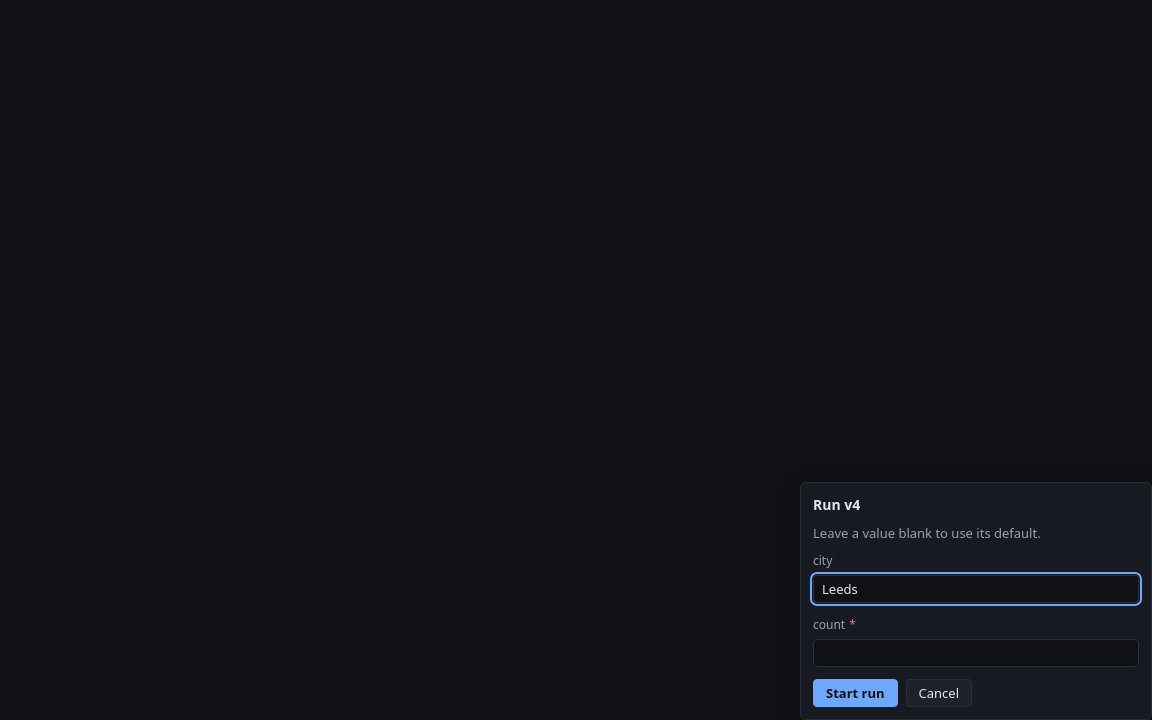
Test: RunNowPanel (#1395 OR4) › starts ONE run for two submits in the same tick
This screenshot has width=1152, height=720.
(page scrolled)
Type "1" into the field labelled "count" at (976, 653), box [813,639,1139,667]
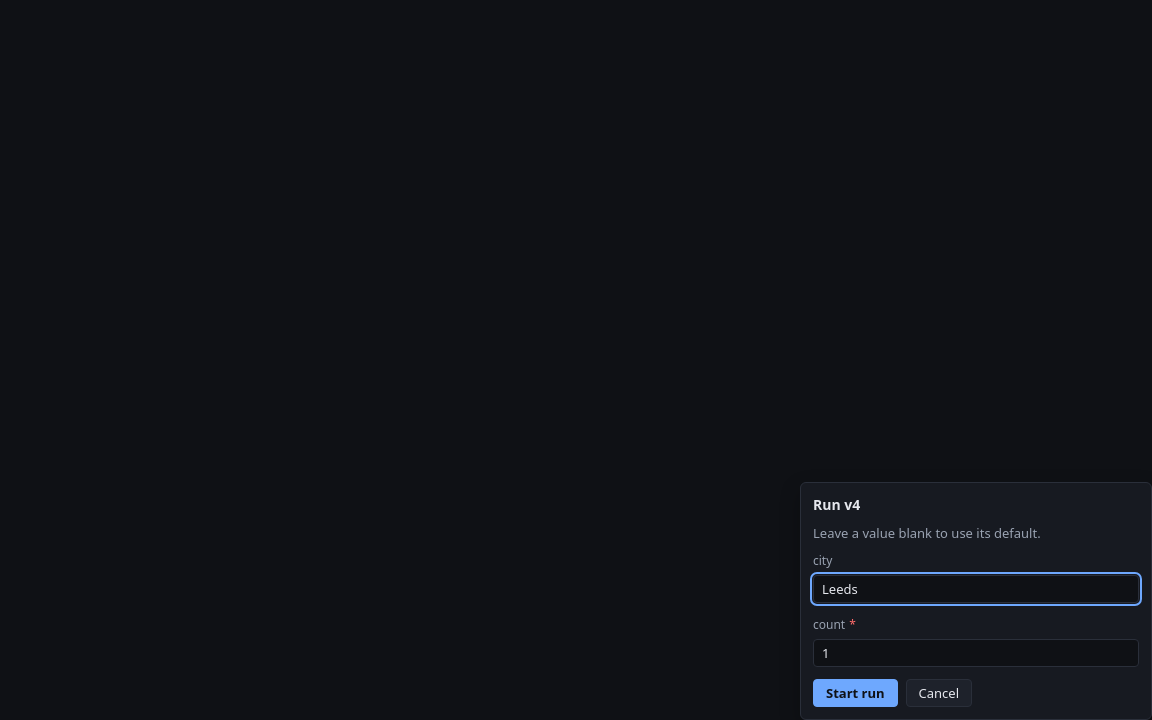
Click the button "Start run" at (855, 693), box [813,679,898,707]
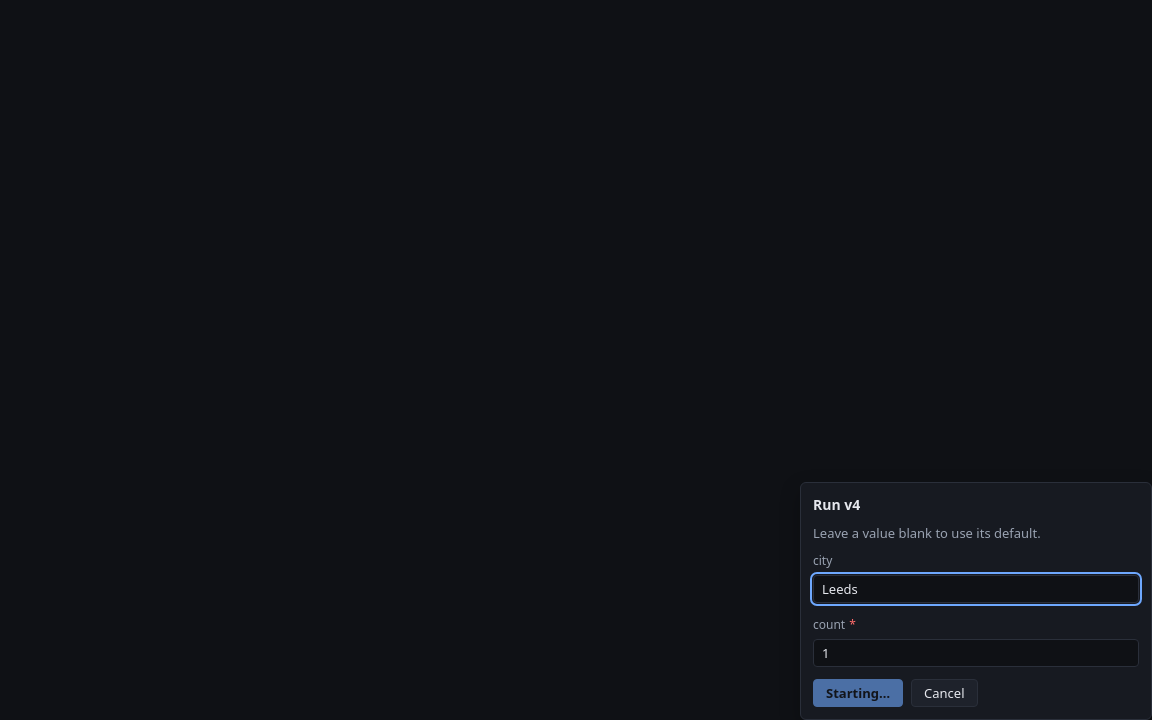
Submit the dialog named "Start run", box [800,482,1151,719]
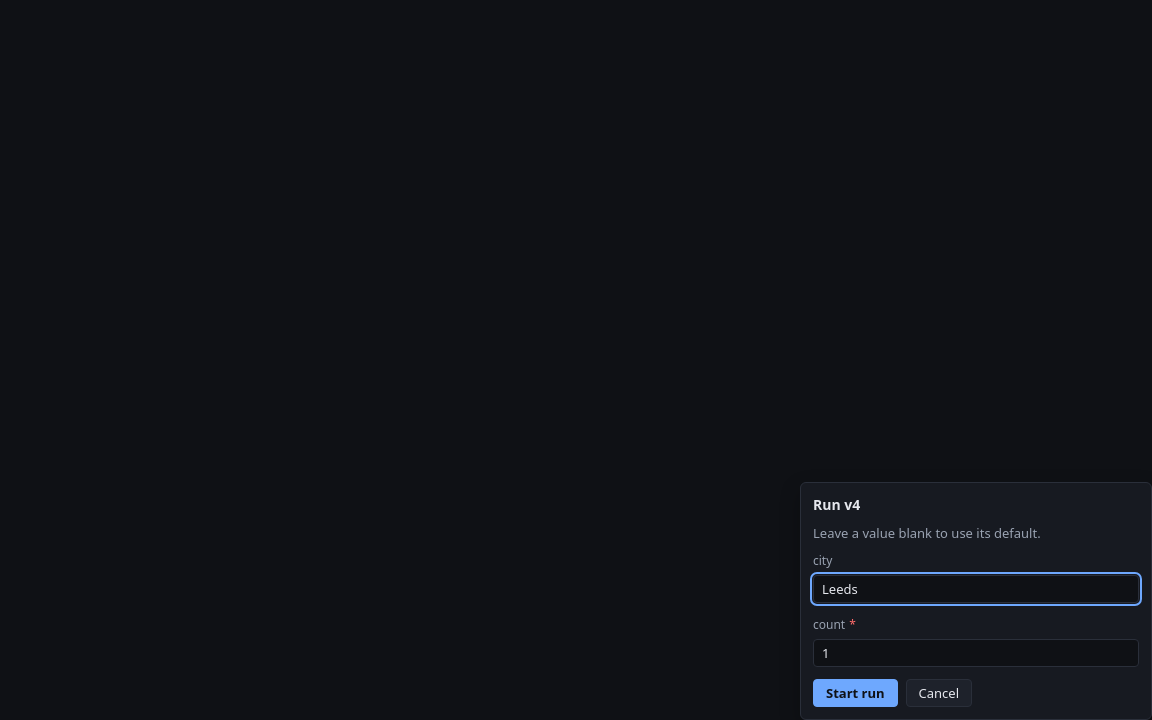
Result: the button "Start run" is enabled at [813,679,898,707]
